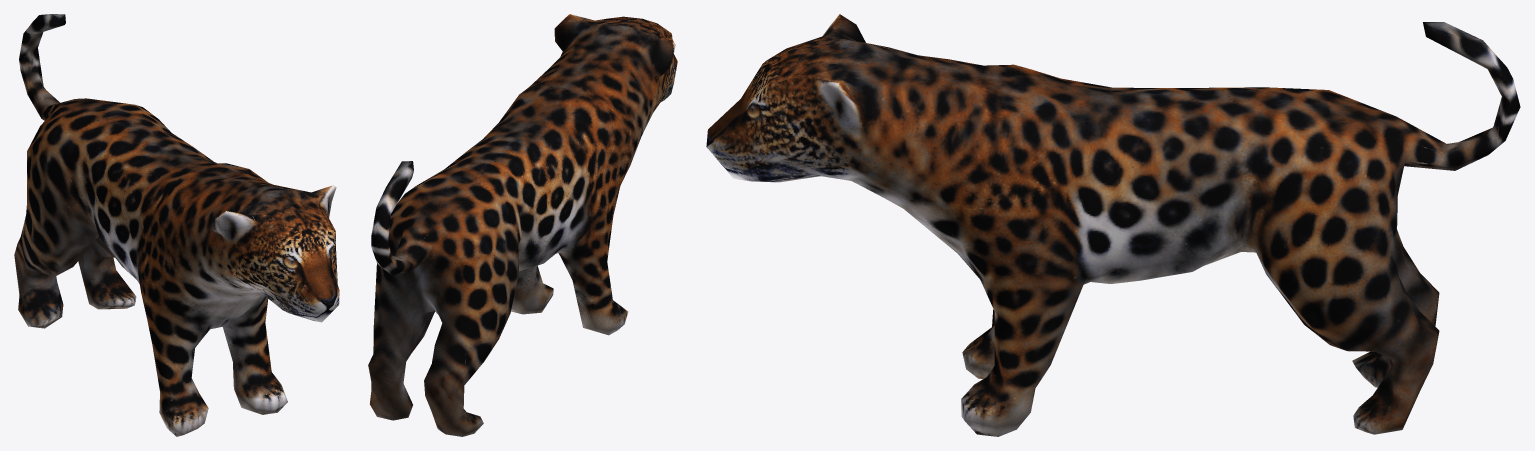
The model's file is uploads_files_5014704_Jaguar_Low_Poly.fbx.
3 renders of one model, left to right at view 1: azimuth 30°, elevation 25°; view 2: azimuth 150°, elevation 25°; view 3: azimuth 270°, elevation 25°, orthographic. The views are drawn at different scales.
Visible parts, largest first — view 1: Jaguar_Low_Poly; view 2: Jaguar_Low_Poly; view 3: Jaguar_Low_Poly.
Part boxes in pixels (x1=…): Jaguar_Low_Poly: x1=14, y1=14, x2=339, y2=436; Jaguar_Low_Poly: x1=368, y1=14, x2=677, y2=436; Jaguar_Low_Poly: x1=706, y1=14, x2=1520, y2=436.
Bounding box in the file's own units: 39.53 × 87.48 × 169.
